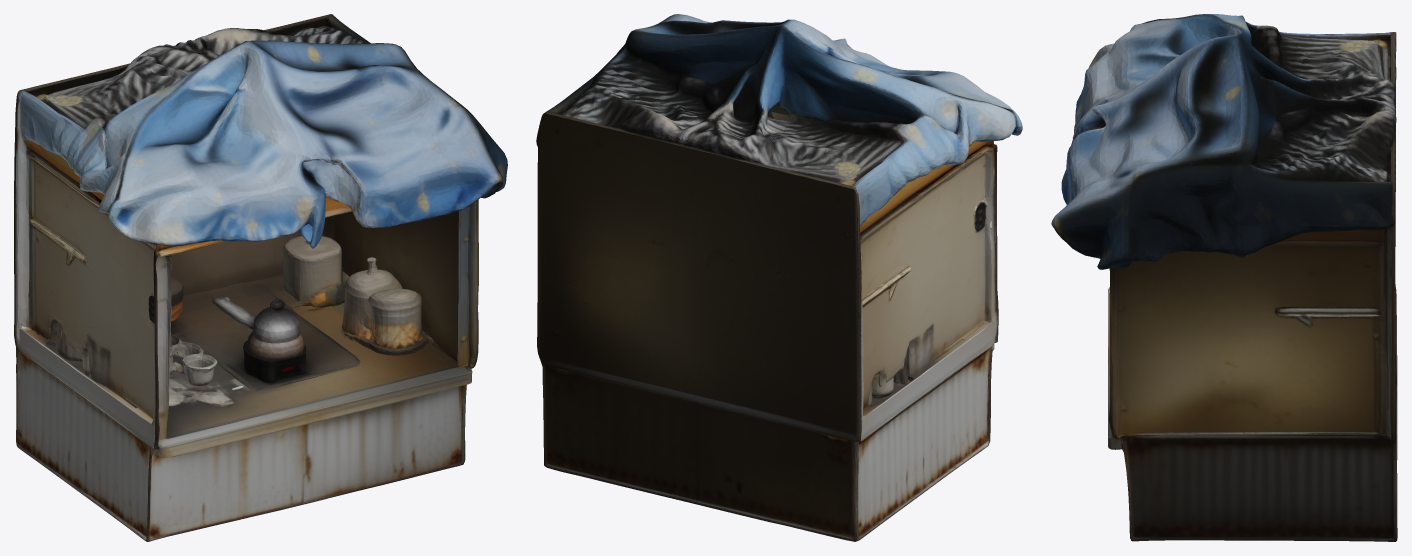
Rendered from chai-tapri.glb.
3 views of the same model, side by side, from view 1: azimuth 30°, elevation 25°; view 2: azimuth 150°, elevation 25°; view 3: azimuth 270°, elevation 25° (orthographic).
Parts seen in each view (by area): view 1: world; view 2: world; view 3: world.
Part boxes in pixels (left/top/right/bottom): world: left=14, top=14, right=507, bottom=541; world: left=536, top=14, right=1022, bottom=541; world: left=1051, top=14, right=1397, bottom=541.
Bounding box in the file's own units: 0.9576 × 0.997 × 0.7288.
1 material, 1 textured.
